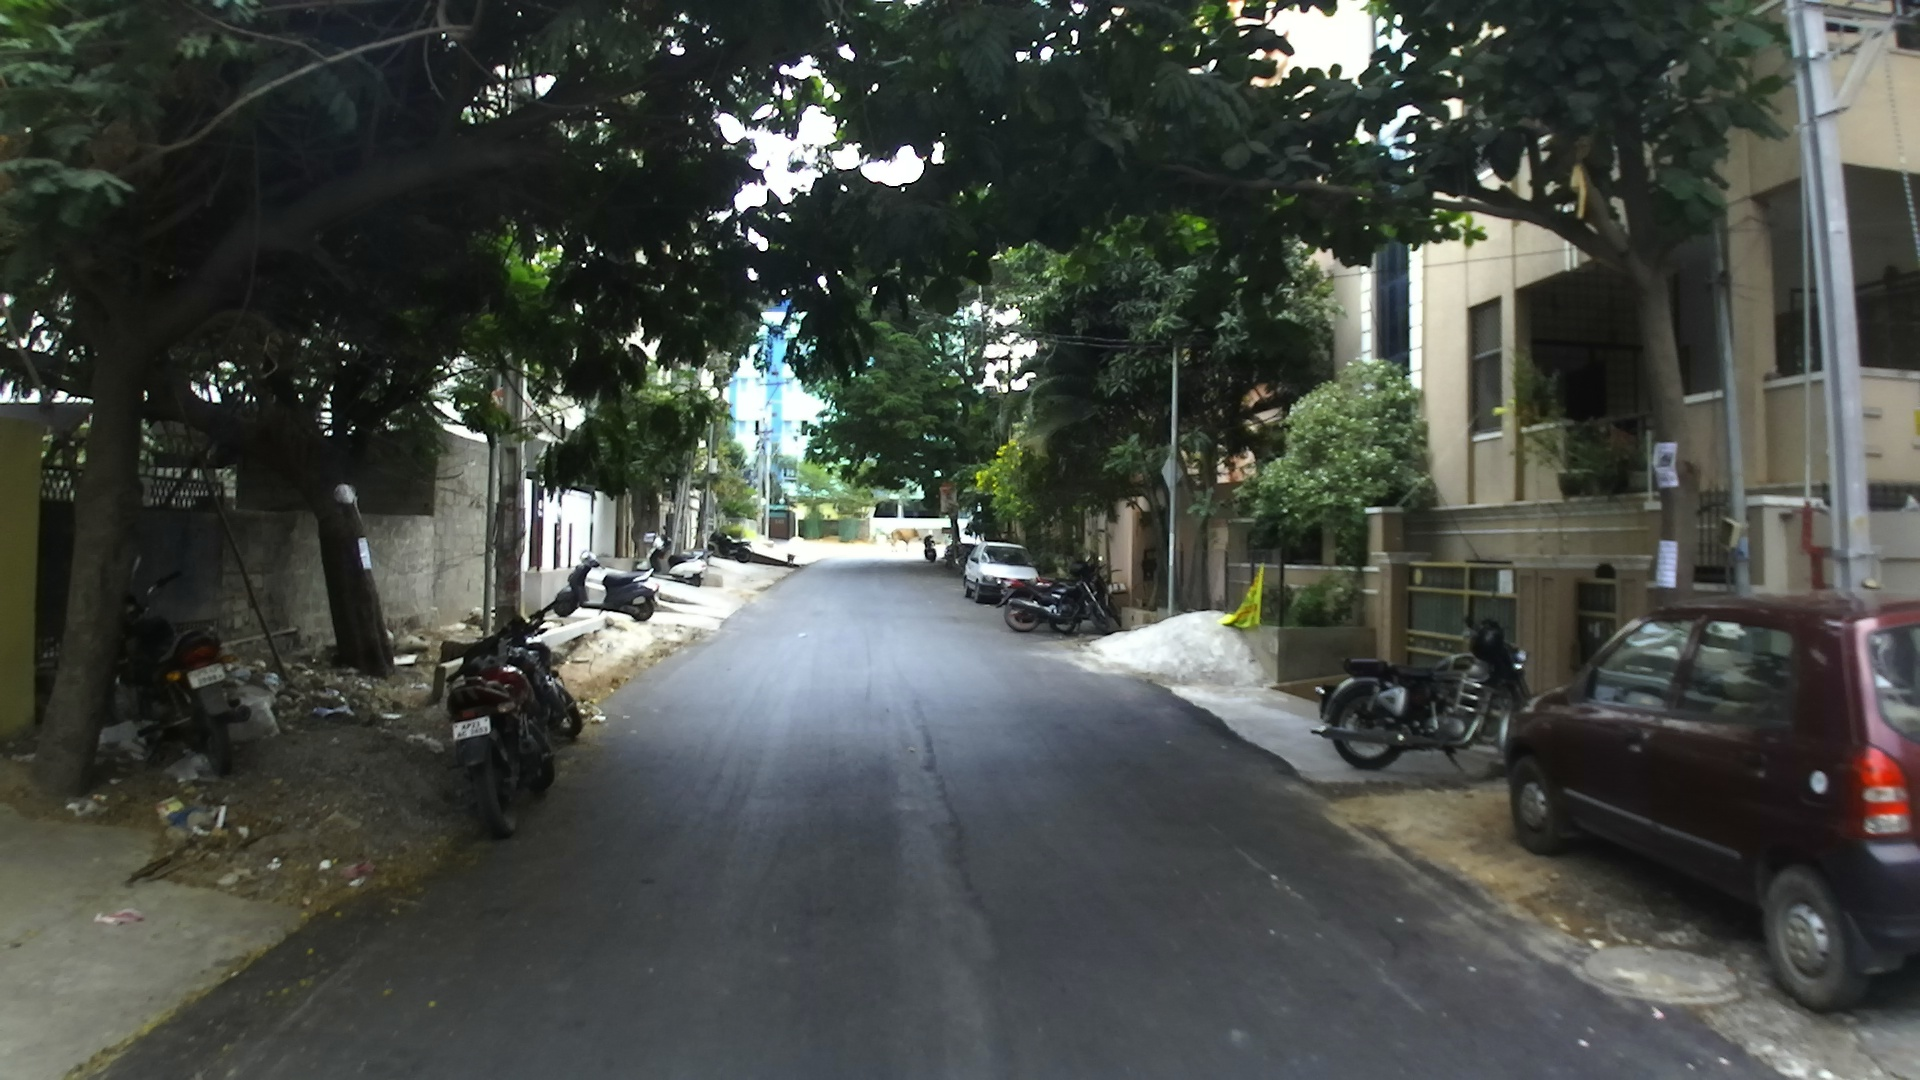vehicle: (1502, 583, 1919, 1013), (1320, 617, 1528, 778), (440, 618, 574, 840), (1002, 574, 1116, 637), (554, 560, 659, 622), (1000, 574, 1088, 636), (961, 543, 1040, 601)
